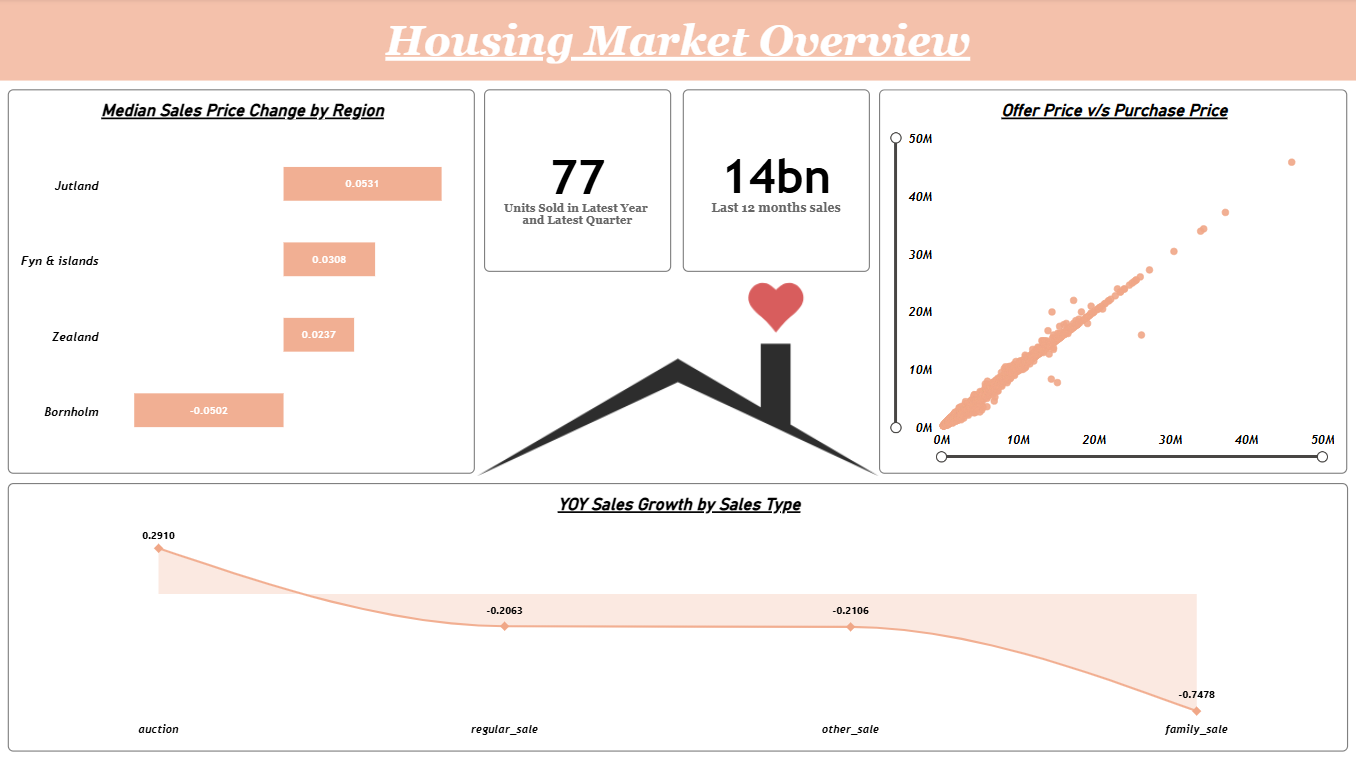

Layout of this report page (visuals, bound fields, positions):
{"tool":"powerbi","page":{"name":"Housing Market Overview","canvas":[1920,1080],"ordinal":0},"visuals":[{"type":"lineChart","title":"YOY Sales Growth by Sales Type","fields":{"Category":["HousingData.sales_type"],"Y":["Measures Table.YOY Sales Growth"]},"box":[12.2,685.5,1895.9,380.2],"z":0},{"type":"shape","box":[0,0,1920.4,116.9],"z":1},{"type":"scatterChart","title":"Offer Price v/s Purchase Price","fields":{"X":["HousingData.offer_price"],"Y":["HousingData.purchase_price"]},"box":[1245.4,129.1,662.8,544.2],"z":2},{"type":"barChart","title":"Median Sales Price Change by Region","fields":{"Category":["HousingData.region"],"Y":["Measures Table.Median Sales Price Change"]},"box":[12.2,129.1,661,544.2],"z":3},{"type":"card","fields":{"Values":["Measures Table.Units Sold in Latest Year and Latest Quarter"]},"box":[685.5,129.1,265,258.1],"z":4},{"type":"card","fields":{"Values":["Measures Table.Last 12 months sales"]},"box":[968,129.1,265,258.1],"z":5}]}

Visuals, with their boxes in screenshot pixels (x1, y1, x2, y2), scaled from the page's 1920x1080 canvas onto the 1356x760 screenshot:
"YOY Sales Growth by Sales Type" lineChart: x1=9, y1=482, x2=1348, y2=750
shape: x1=0, y1=0, x2=1355, y2=82
"Offer Price v/s Purchase Price" scatterChart: x1=880, y1=91, x2=1348, y2=474
"Median Sales Price Change by Region" barChart: x1=9, y1=91, x2=475, y2=474
card - Measures Table.Units Sold in Latest Year and Latest Quarter: x1=484, y1=91, x2=671, y2=272
card - Measures Table.Last 12 months sales: x1=684, y1=91, x2=871, y2=272
